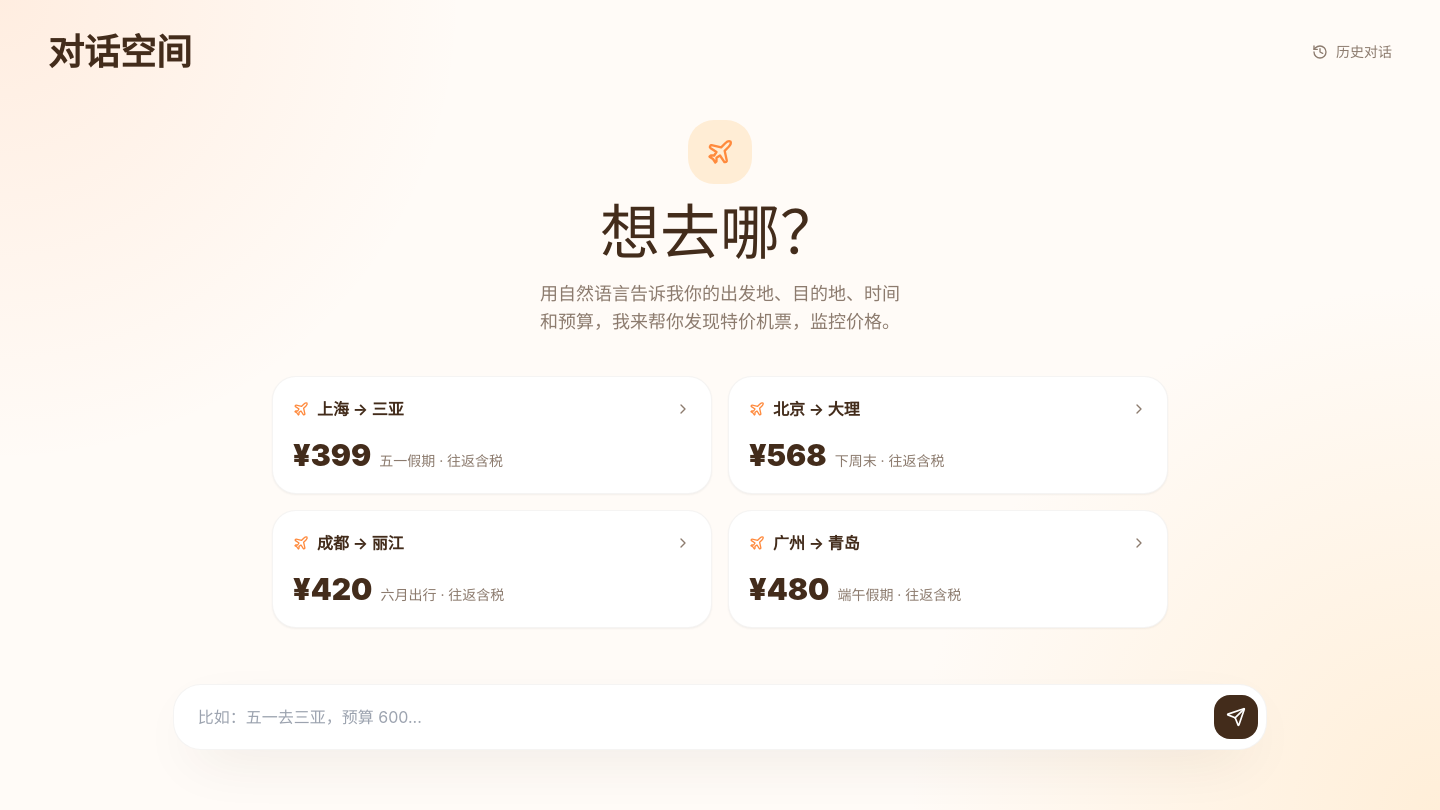
Test: does not apply a stale complete returned after an out-of-order event
This screenshot has width=1440, height=810.
Type "乱序搜索" into the field.
click(698, 717); type("乱序搜索")  # box [182,693,1214,741]
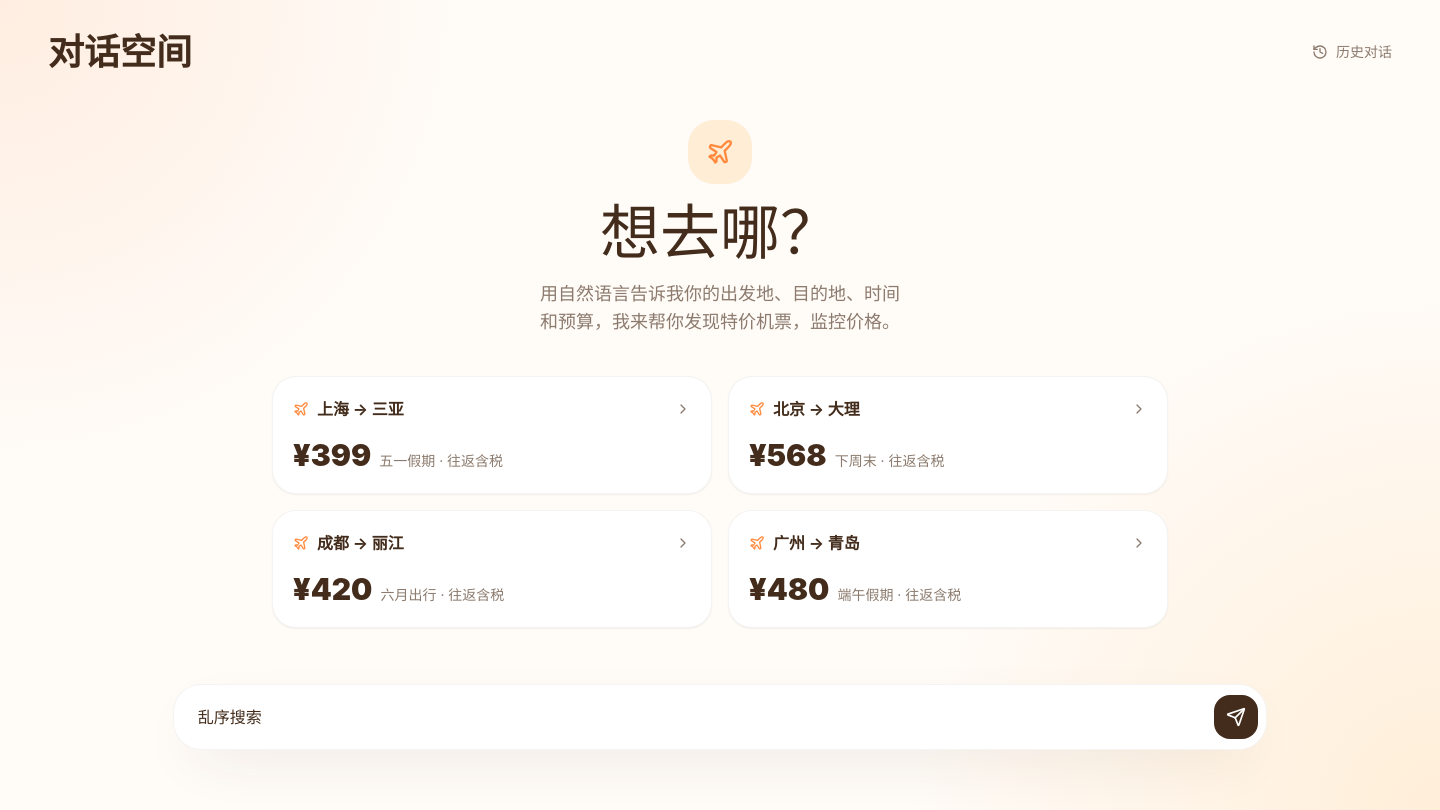
Press Enter in the field, box [182,693,1214,741]
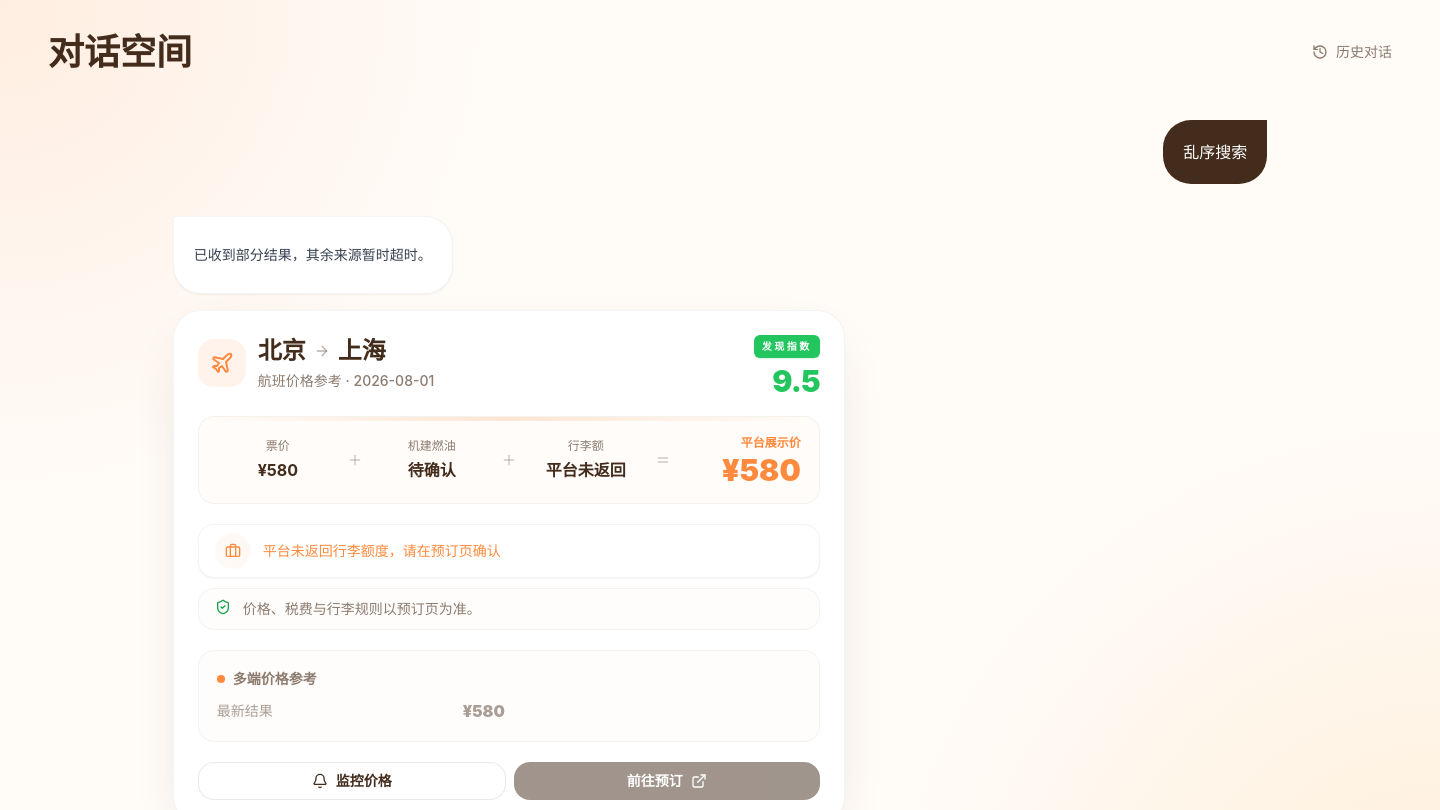
Check: the text "最新结果" is shown, box [217,701,273,721]
